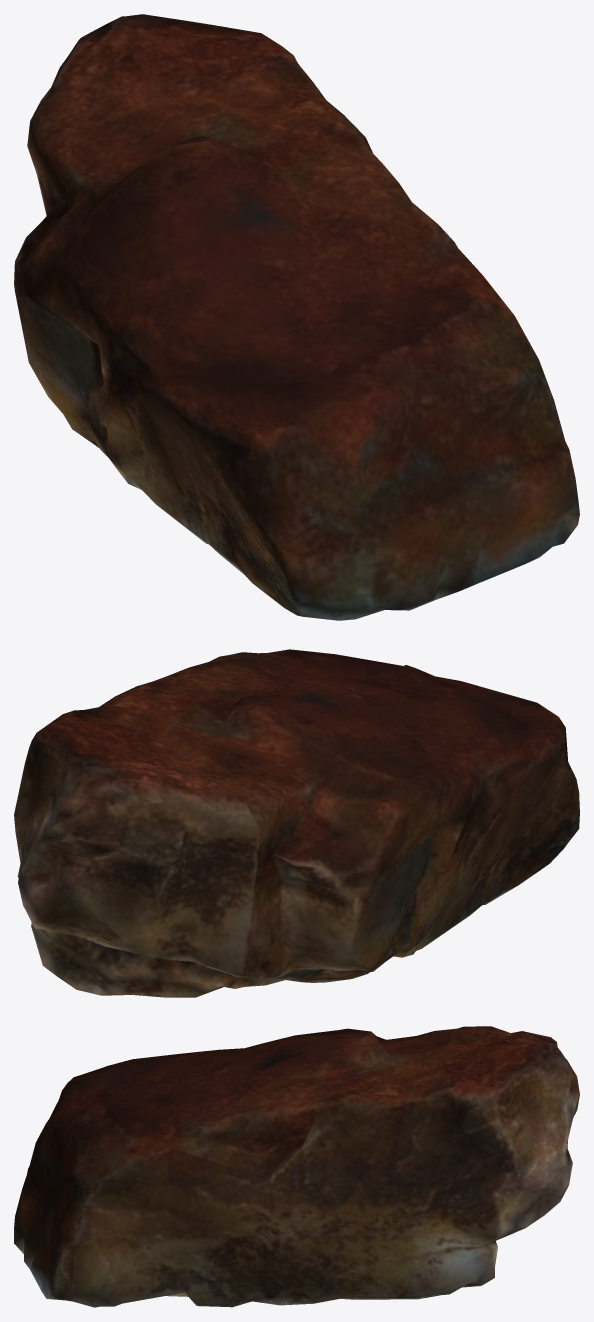
The model's file is rock_07.glb.
3 renders of one model, top to bottom at view 1: azimuth 30°, elevation 25°; view 2: azimuth 150°, elevation 25°; view 3: azimuth 270°, elevation 25°, orthographic. The views are drawn at different scales.
Visible parts, largest first — view 1: rock_07; view 2: rock_07; view 3: rock_07.
Boxes of the visible parts, x1,y1,x2,y2 form: rock_07: [14, 14, 579, 620]; rock_07: [14, 649, 579, 997]; rock_07: [14, 1026, 579, 1307].
Size of the model in its own units: 0.1675 by 0.1434 by 0.3198.
Materials: 1 (1 with a texture image).
